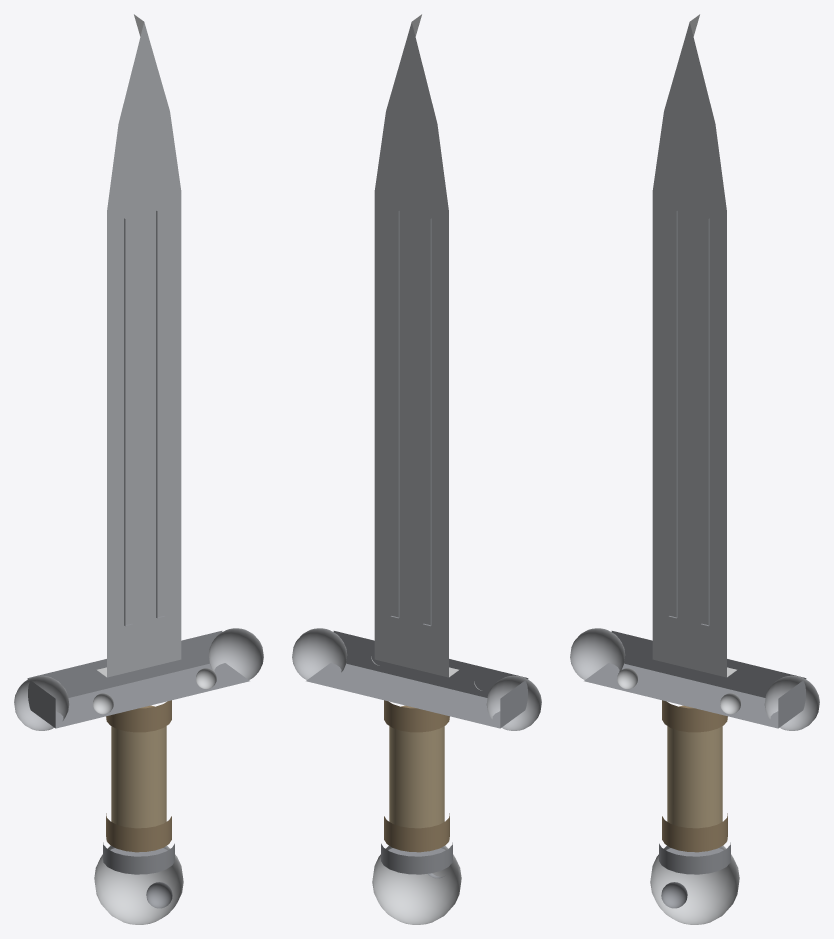
File: steel_sword.glb
3 renders of one model, left to right at view 1: azimuth 30°, elevation 25°; view 2: azimuth 150°, elevation 25°; view 3: azimuth 330°, elevation 25°, orthographic.
Visible parts, largest first — view 1: SteelSword; view 2: SteelSword; view 3: SteelSword.
Part boxes in pixels (x1,y1,x2,y2): SteelSword: (14,14,263,924); SteelSword: (292,14,541,924); SteelSword: (570,14,819,924).
Bounding box in the file's own units: 0.424 × 1.51 × 0.15.
